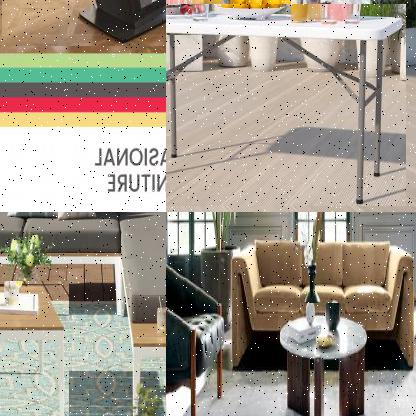table: (166, 4, 406, 208), (277, 303, 369, 415), (0, 281, 70, 415), (1, 0, 165, 48)
